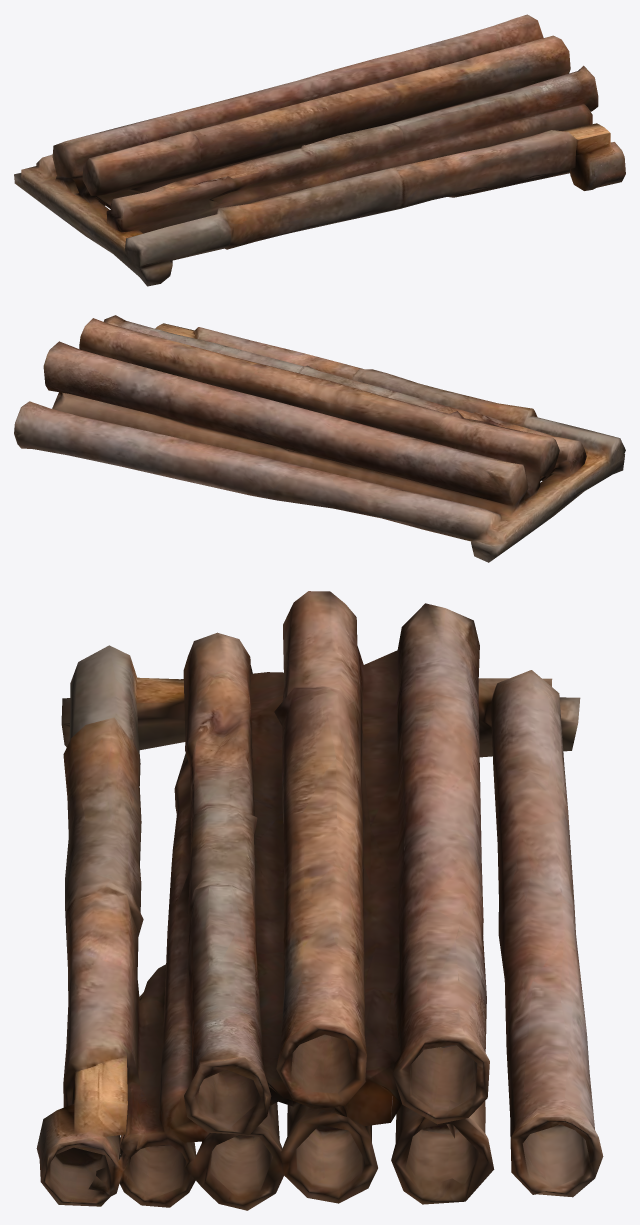
The model's file is qr_pipes.glb.
3 renders of one model, top to bottom at view 1: azimuth 30°, elevation 25°; view 2: azimuth 150°, elevation 25°; view 3: azimuth 270°, elevation 25°, orthographic. The views are drawn at different scales.
Visible parts, largest first — view 1: tripo_node_6084fceb-4abd-47c9-9d2b-642a4cd57277; view 2: tripo_node_6084fceb-4abd-47c9-9d2b-642a4cd57277; view 3: tripo_node_6084fceb-4abd-47c9-9d2b-642a4cd57277.
Boxes of the visible parts, bbox=[...] form: tripo_node_6084fceb-4abd-47c9-9d2b-642a4cd57277: bbox=[14, 14, 625, 286]; tripo_node_6084fceb-4abd-47c9-9d2b-642a4cd57277: bbox=[14, 315, 625, 562]; tripo_node_6084fceb-4abd-47c9-9d2b-642a4cd57277: bbox=[36, 591, 603, 1210].
Bounding box in the file's own units: 1 × 0.1901 × 0.5098.
1 material, 1 textured.
